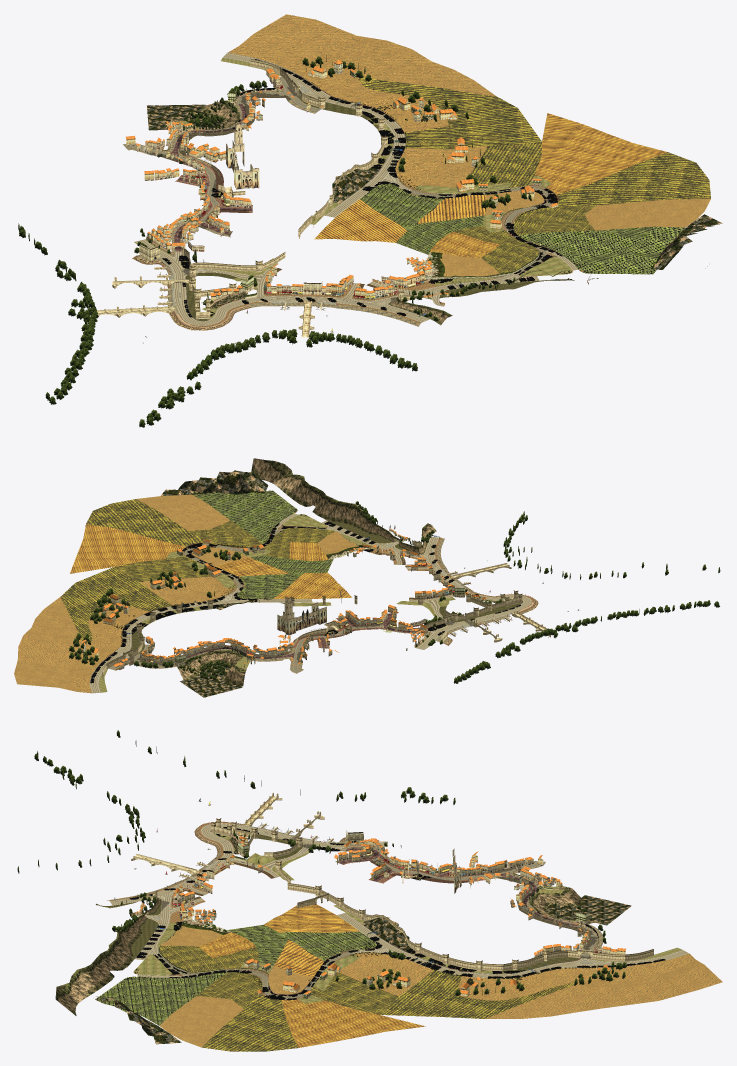
The model's file is track-EU_C4_V1.glb.
3 renders of one model, top to bottom at view 1: azimuth 30°, elevation 25°; view 2: azimuth 150°, elevation 25°; view 3: azimuth 270°, elevation 25°, orthographic. The views are drawn at different scales.
Parts seen in each view (by area): view 1: EU_C4_V1; view 2: EU_C4_V1; view 3: EU_C4_V1.
Boxes of the visible parts, bbox=[...] form: EU_C4_V1: bbox=[18, 14, 722, 427]; EU_C4_V1: bbox=[14, 458, 720, 697]; EU_C4_V1: bbox=[17, 730, 722, 1051].
Bounding box in the file's own units: 2492 × 207 × 2322.
102 materials, 101 textured.
